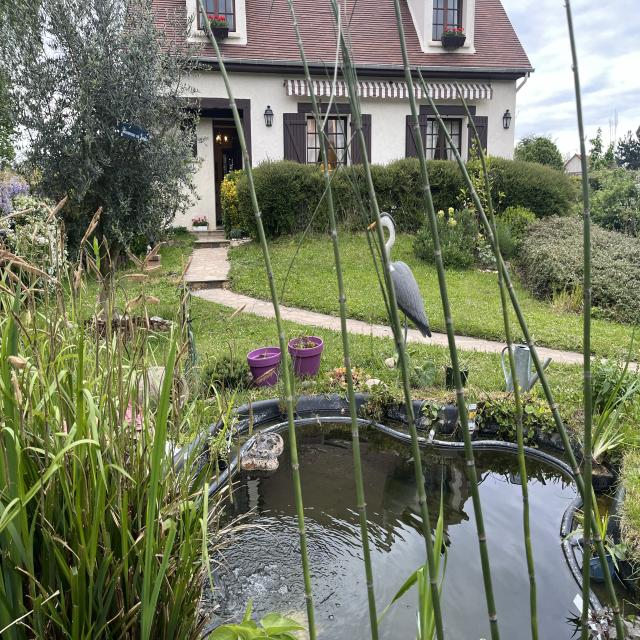Heron: (361, 199, 443, 387)
